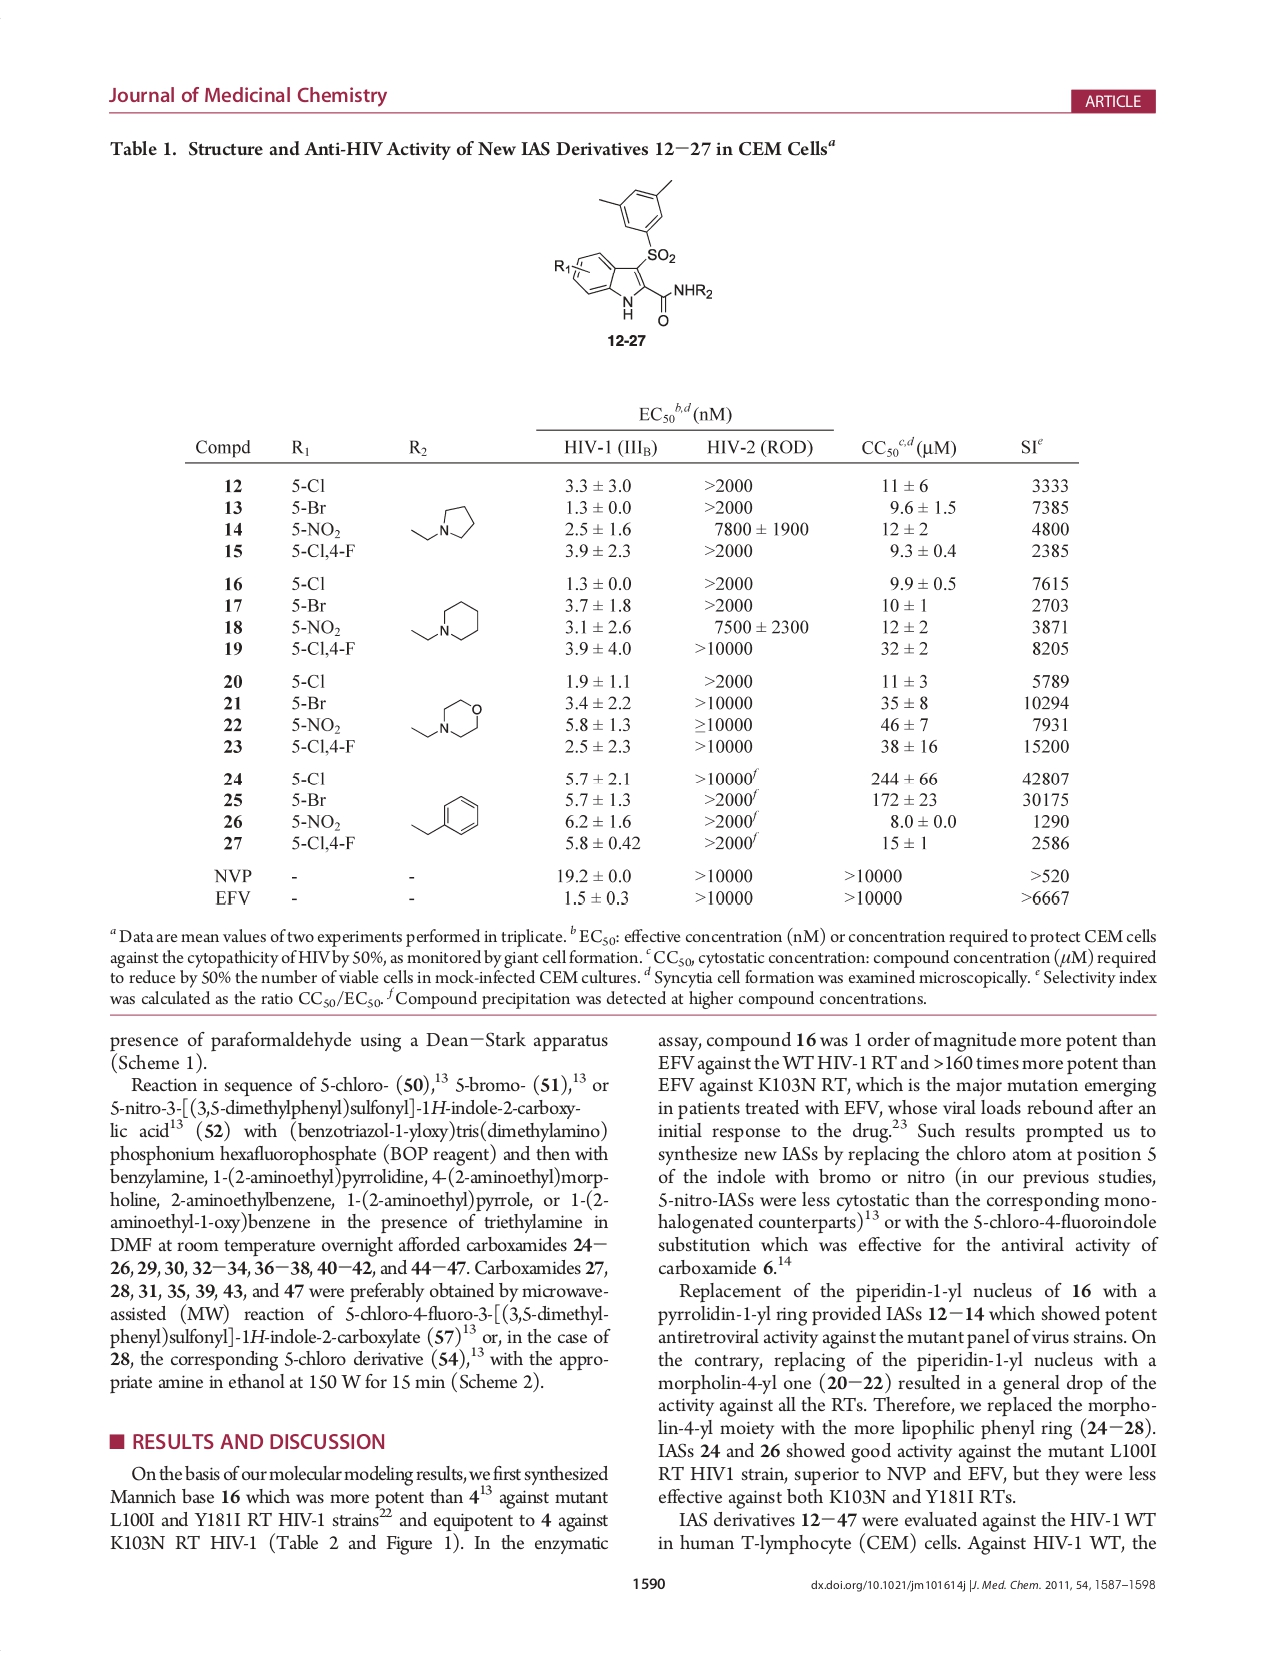exist_molecular: (551, 178, 715, 330), (408, 594, 481, 648), (410, 694, 484, 745), (406, 499, 477, 551), (408, 789, 481, 839)
